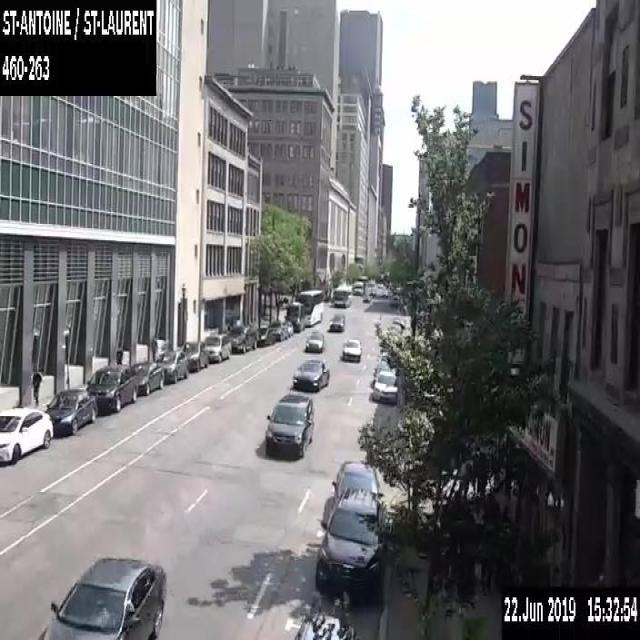bus: (296, 288, 323, 325), (332, 283, 352, 307)
pedestrian: (31, 363, 41, 405), (150, 334, 158, 361), (116, 342, 123, 364)
vehicle: (36, 553, 168, 639), (314, 487, 386, 589), (265, 392, 313, 457), (0, 405, 53, 463), (85, 364, 137, 412), (44, 388, 96, 432), (331, 460, 383, 504), (294, 610, 362, 638), (128, 360, 164, 394), (292, 358, 329, 391), (156, 348, 188, 382), (181, 339, 209, 372), (227, 323, 258, 352), (373, 369, 398, 402), (202, 332, 230, 361), (284, 301, 304, 332), (372, 361, 396, 384), (341, 338, 362, 362), (304, 328, 324, 352), (267, 320, 287, 340), (256, 326, 275, 346), (328, 313, 346, 332), (280, 320, 292, 336), (353, 280, 363, 294), (378, 351, 389, 363), (368, 288, 375, 296), (363, 294, 370, 301)
